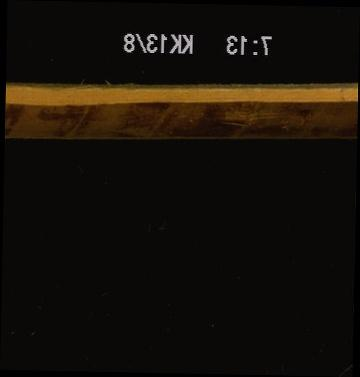wave: (4, 92, 356, 139)
